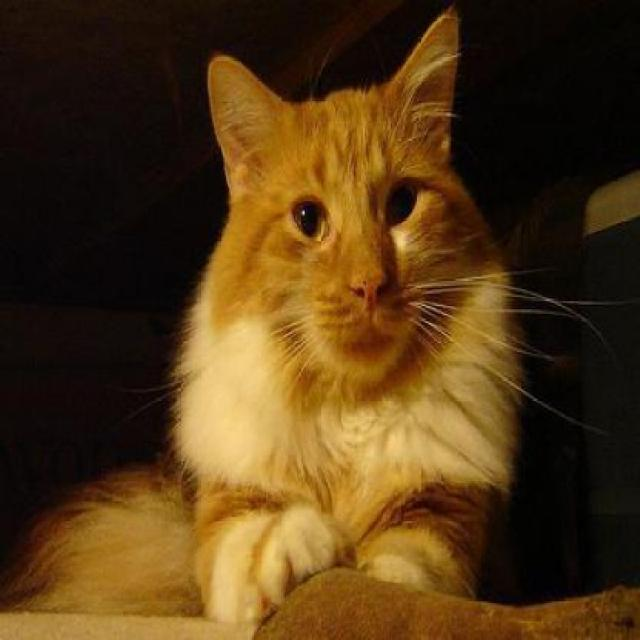cat: (41, 11, 512, 622)
